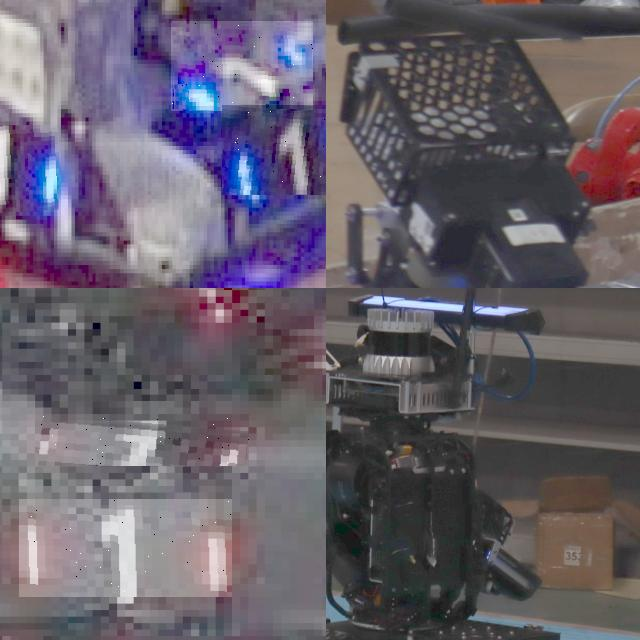B1: (171, 21, 313, 111), (222, 104, 326, 195), (0, 125, 59, 215)
R1: (19, 499, 232, 597), (35, 414, 249, 466)
